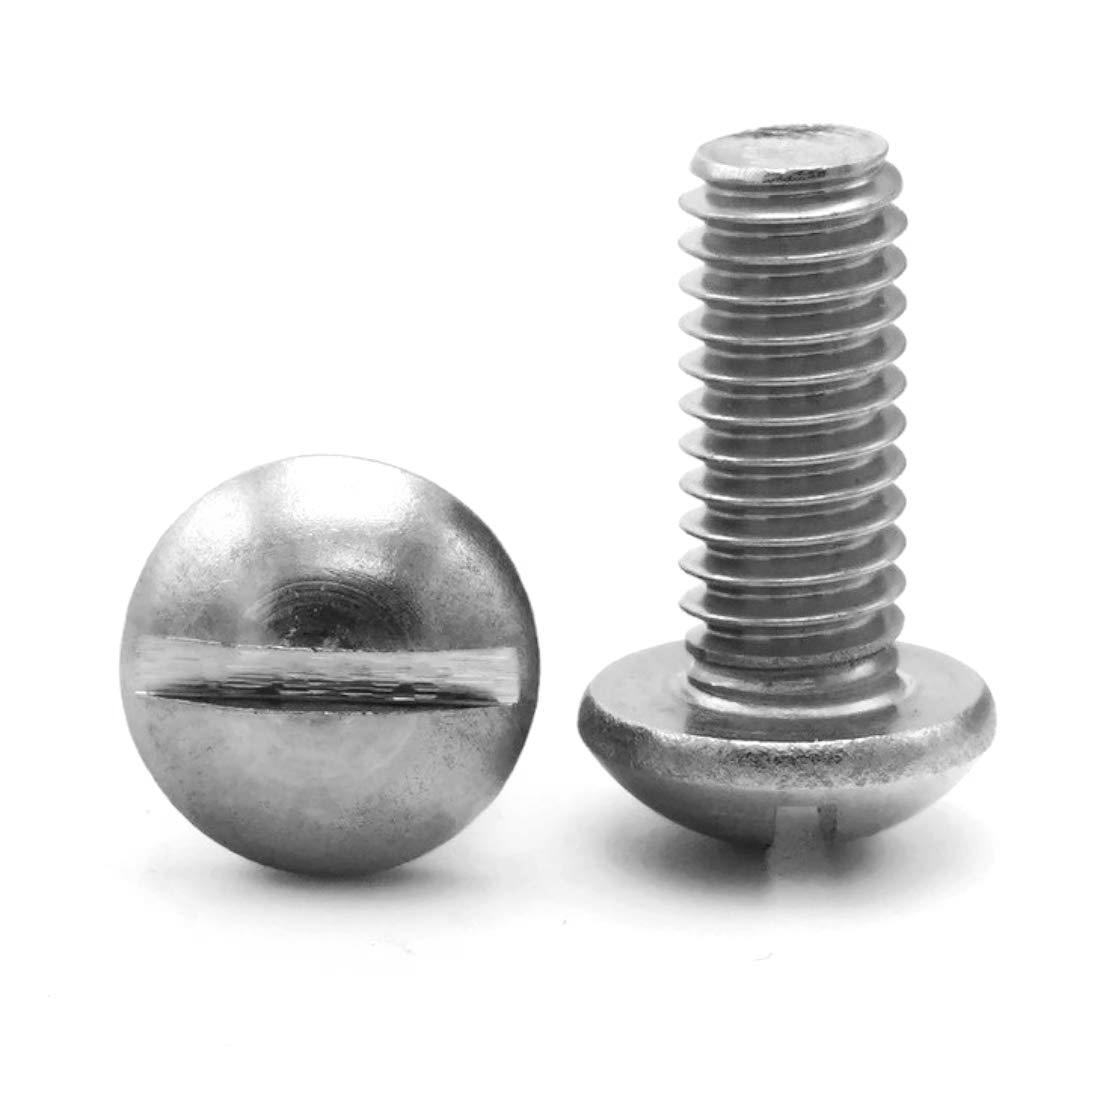screw: (118, 460, 545, 880)
